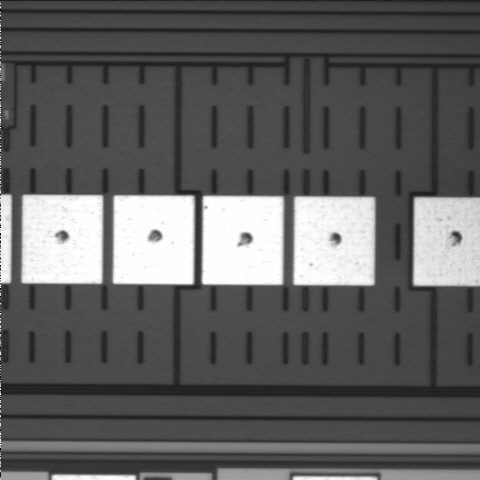pad: (202, 196, 284, 285), (293, 197, 375, 285), (22, 195, 103, 284), (113, 195, 194, 284)
